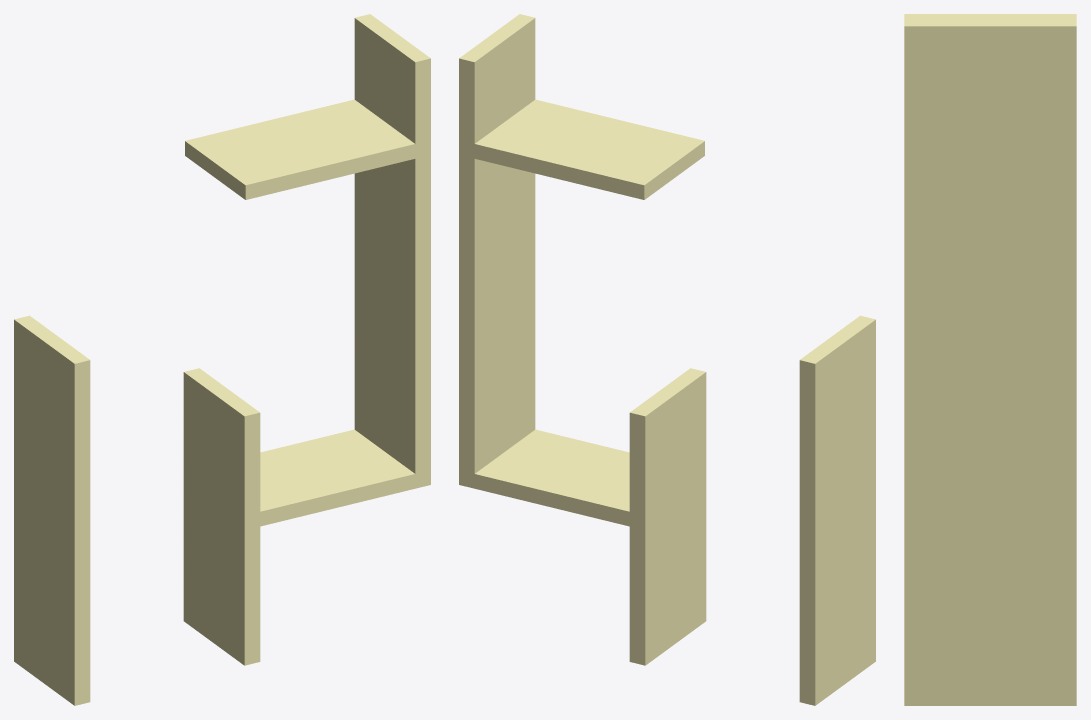
3 views of the same model, side by side, from view 1: azimuth 30°, elevation 25°; view 2: azimuth 150°, elevation 25°; view 3: azimuth 270°, elevation 25° (orthographic). The views are drawn at different scales.
Visible parts, largest first — view 1: Wall__7_, Wall__5_, Wall__10_, Wall_8__7_, Wall_8__4_; view 2: Wall__7_, Wall__5_, Wall__10_, Wall_8__7_, Wall_8__4_; view 3: Wall__7_, Wall__10_, Wall_8__7_.
Boxes of the visible parts, <box> form: Wall__7_: <box>354,14,430,485</box>; Wall__5_: <box>14,315,90,705</box>; Wall__10_: <box>183,368,260,665</box>; Wall_8__7_: <box>185,99,422,199</box>; Wall_8__4_: <box>247,429,425,529</box>; Wall__7_: <box>459,14,535,485</box>; Wall__5_: <box>799,315,875,705</box>; Wall__10_: <box>629,368,706,665</box>; Wall_8__7_: <box>467,99,704,199</box>; Wall_8__4_: <box>464,429,642,529</box>; Wall__7_: <box>904,15,1076,631</box>; Wall__10_: <box>904,632,1076,705</box>; Wall_8__7_: <box>904,14,1076,15</box>.
Bounding box in the file's own units: 363 × 547 × 107.
